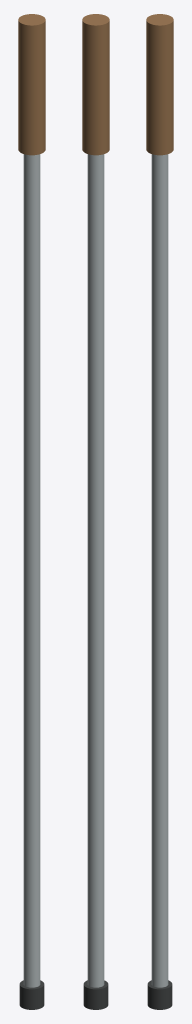
File: glassblowing-studio-and-gallery-punty-rod-ec269ef4__29590.glb
The picture shows the model from 3 angles, left to right: view 1: azimuth 90°, elevation 25°; view 2: azimuth 210°, elevation 25°; view 3: azimuth 270°, elevation 25°; orthographic projection.
Parts seen in each view (by area): view 1: punty-rod; view 2: punty-rod; view 3: punty-rod.
Part boxes in pixels (x1,y1,x2,y2): punty-rod: (18,14,45,1009); punty-rod: (82,14,109,1009); punty-rod: (146,14,173,1009).
Bounding box in the file's own units: 0.042 × 1.67 × 0.042.
